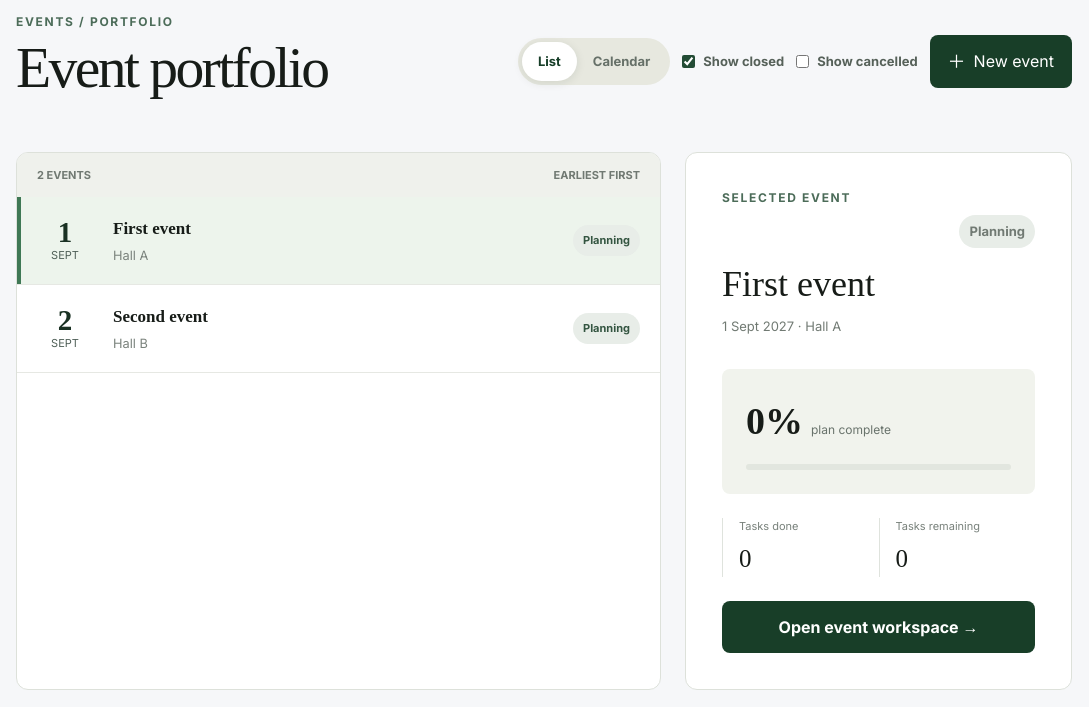
it: API-backed organizer events › updates the selected event panel without opening the workspace
Click the button with aria-label "Open Second event" at (160, 316), box x1=17 y1=285 x2=660 y2=373
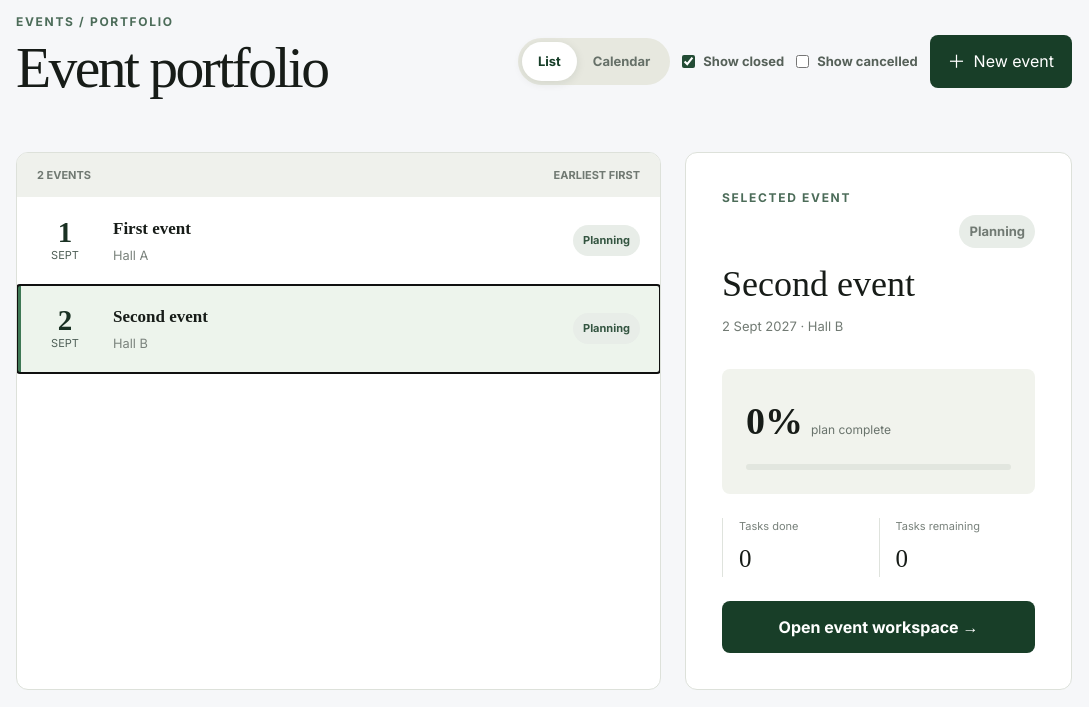
Result: the heading "Second event" is shown at x1=722 y1=264 x2=915 y2=304
